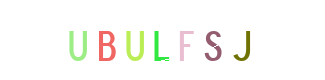B: (74, 0, 154, 80)
F: (123, 0, 203, 80)
J: (205, 0, 285, 80)
L: (118, 0, 198, 80)
S: (174, 0, 254, 80)
U: (66, 0, 146, 80), (118, 0, 198, 80)
